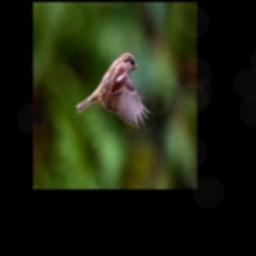Sparrow: (77, 52, 151, 128)
